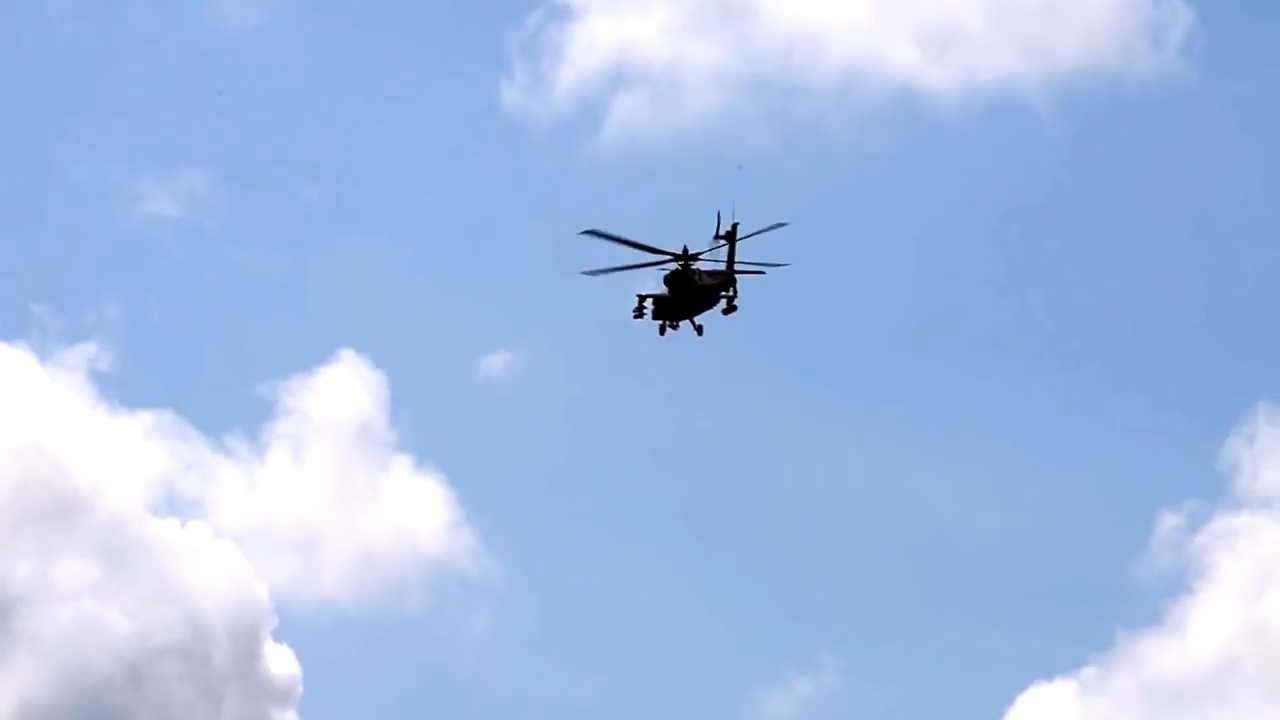ah64: (574, 201, 795, 342)
